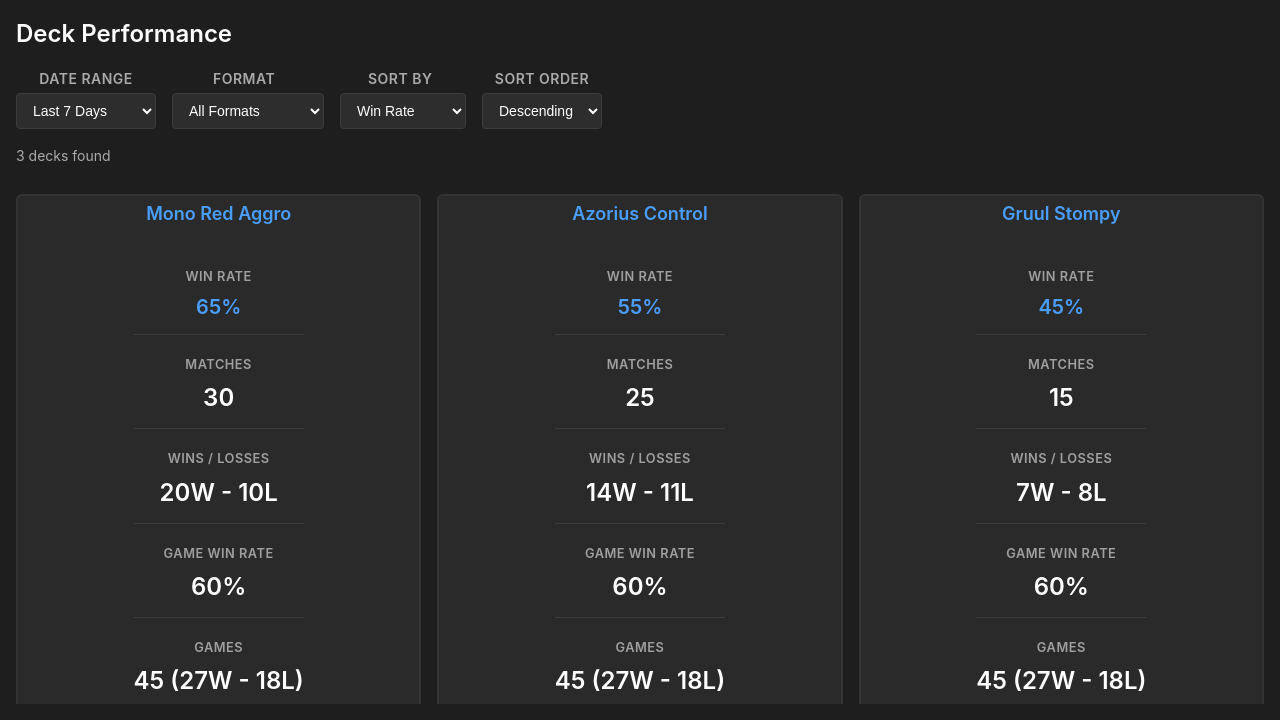
DeckPerformance › Filters › should show custom date inputs when custom range selected
The width and height of the screenshot is (1280, 720).
Expected: the heading "Mono Red Aggro" is shown, [146, 200, 291, 227]
Step 1. Select "Custom Range" in the dropdown below "Date Range" → {"x": 86, "y": 111}, box [16, 93, 156, 129]
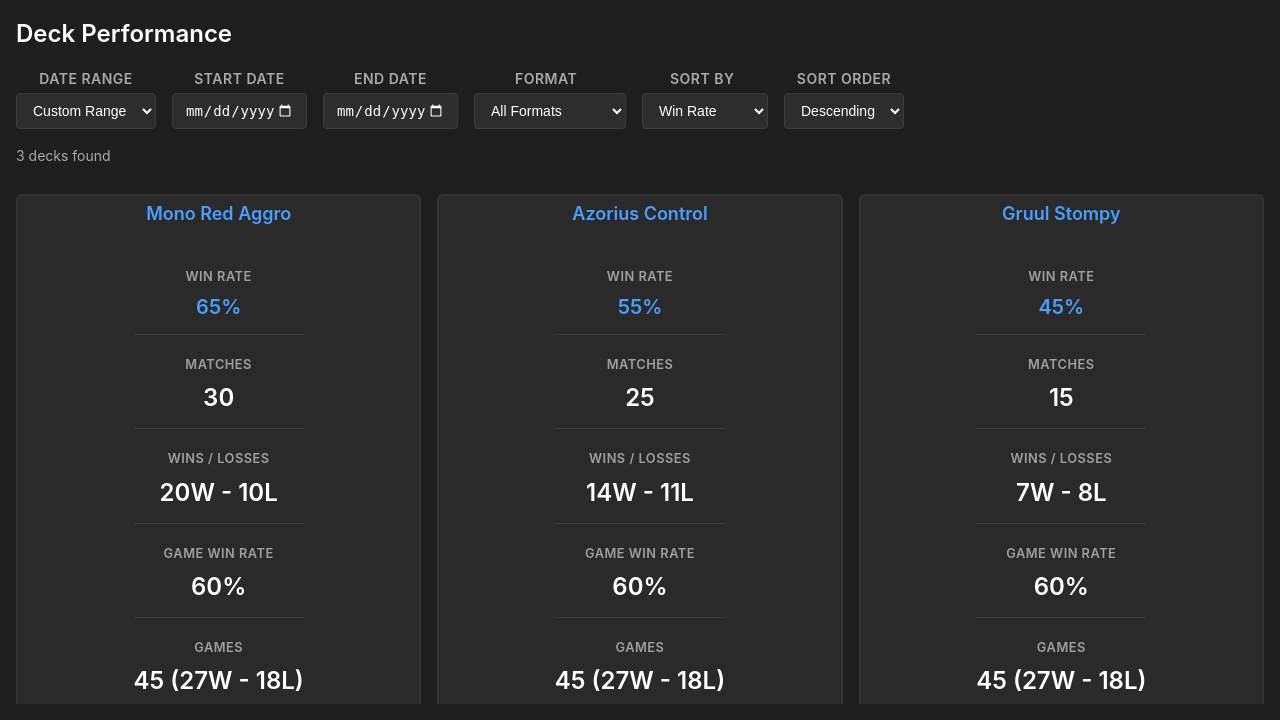
Expected: the date field below "Start Date" is shown, [172, 93, 307, 129]
Expected: the date field below "End Date" is shown, [323, 93, 458, 129]
